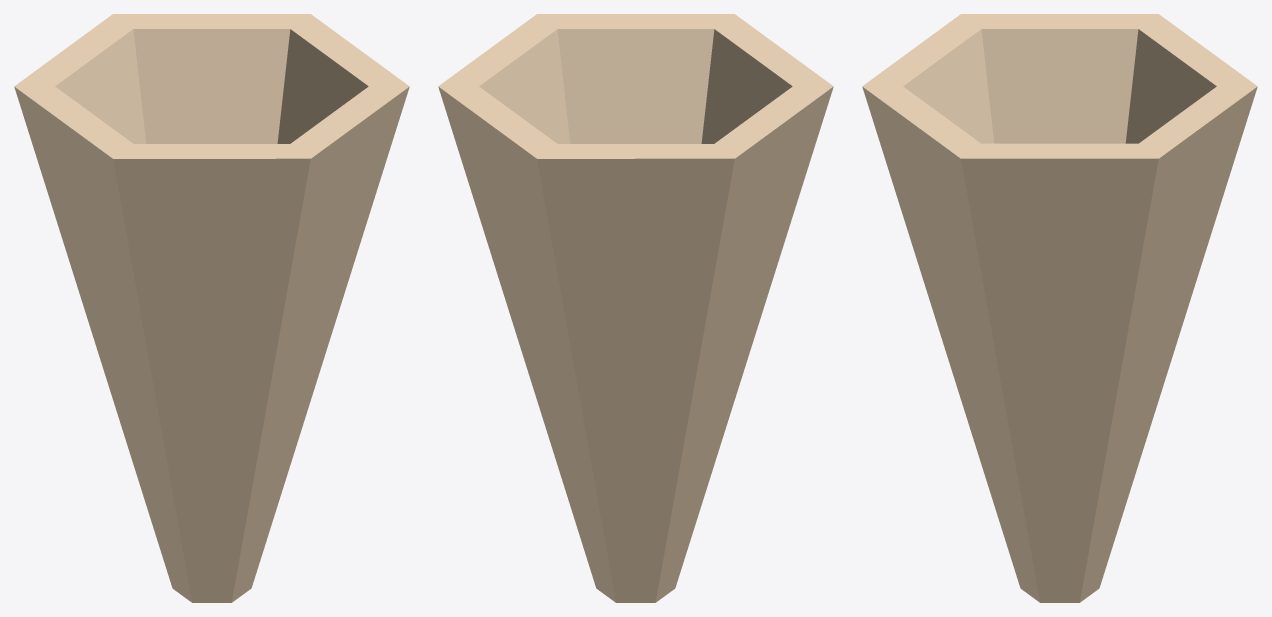
Rendered from ice-cream-cone.glb.
3 views of the same model, side by side, from view 1: azimuth 30°, elevation 25°; view 2: azimuth 150°, elevation 25°; view 3: azimuth 270°, elevation 25° (orthographic).
Visible parts, largest first — view 1: iceCreamCone; view 2: iceCreamCone; view 3: iceCreamCone.
Part boxes in pixels (x1,y1,x2,y2): iceCreamCone: [14, 14, 409, 602]; iceCreamCone: [438, 14, 833, 602]; iceCreamCone: [862, 14, 1257, 602].
Bounding box in the file's own units: 0.1844 × 0.2982 × 0.213.
